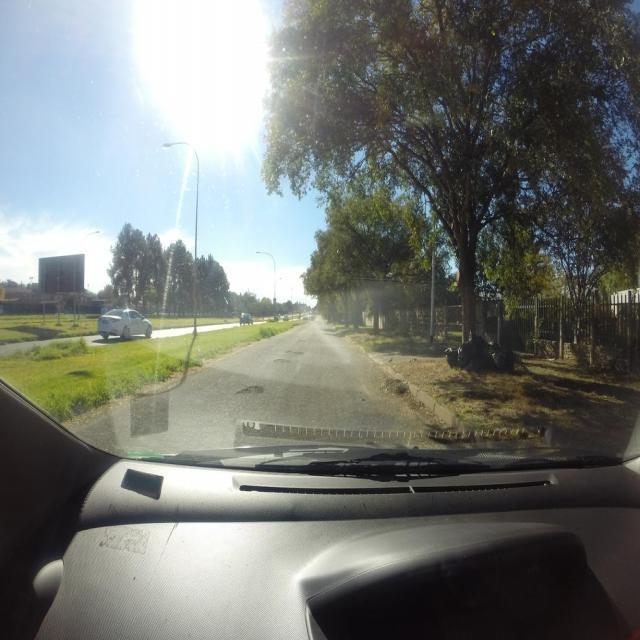pothole: (235, 386, 267, 395), (285, 351, 305, 356), (273, 359, 290, 363), (297, 340, 305, 342)
